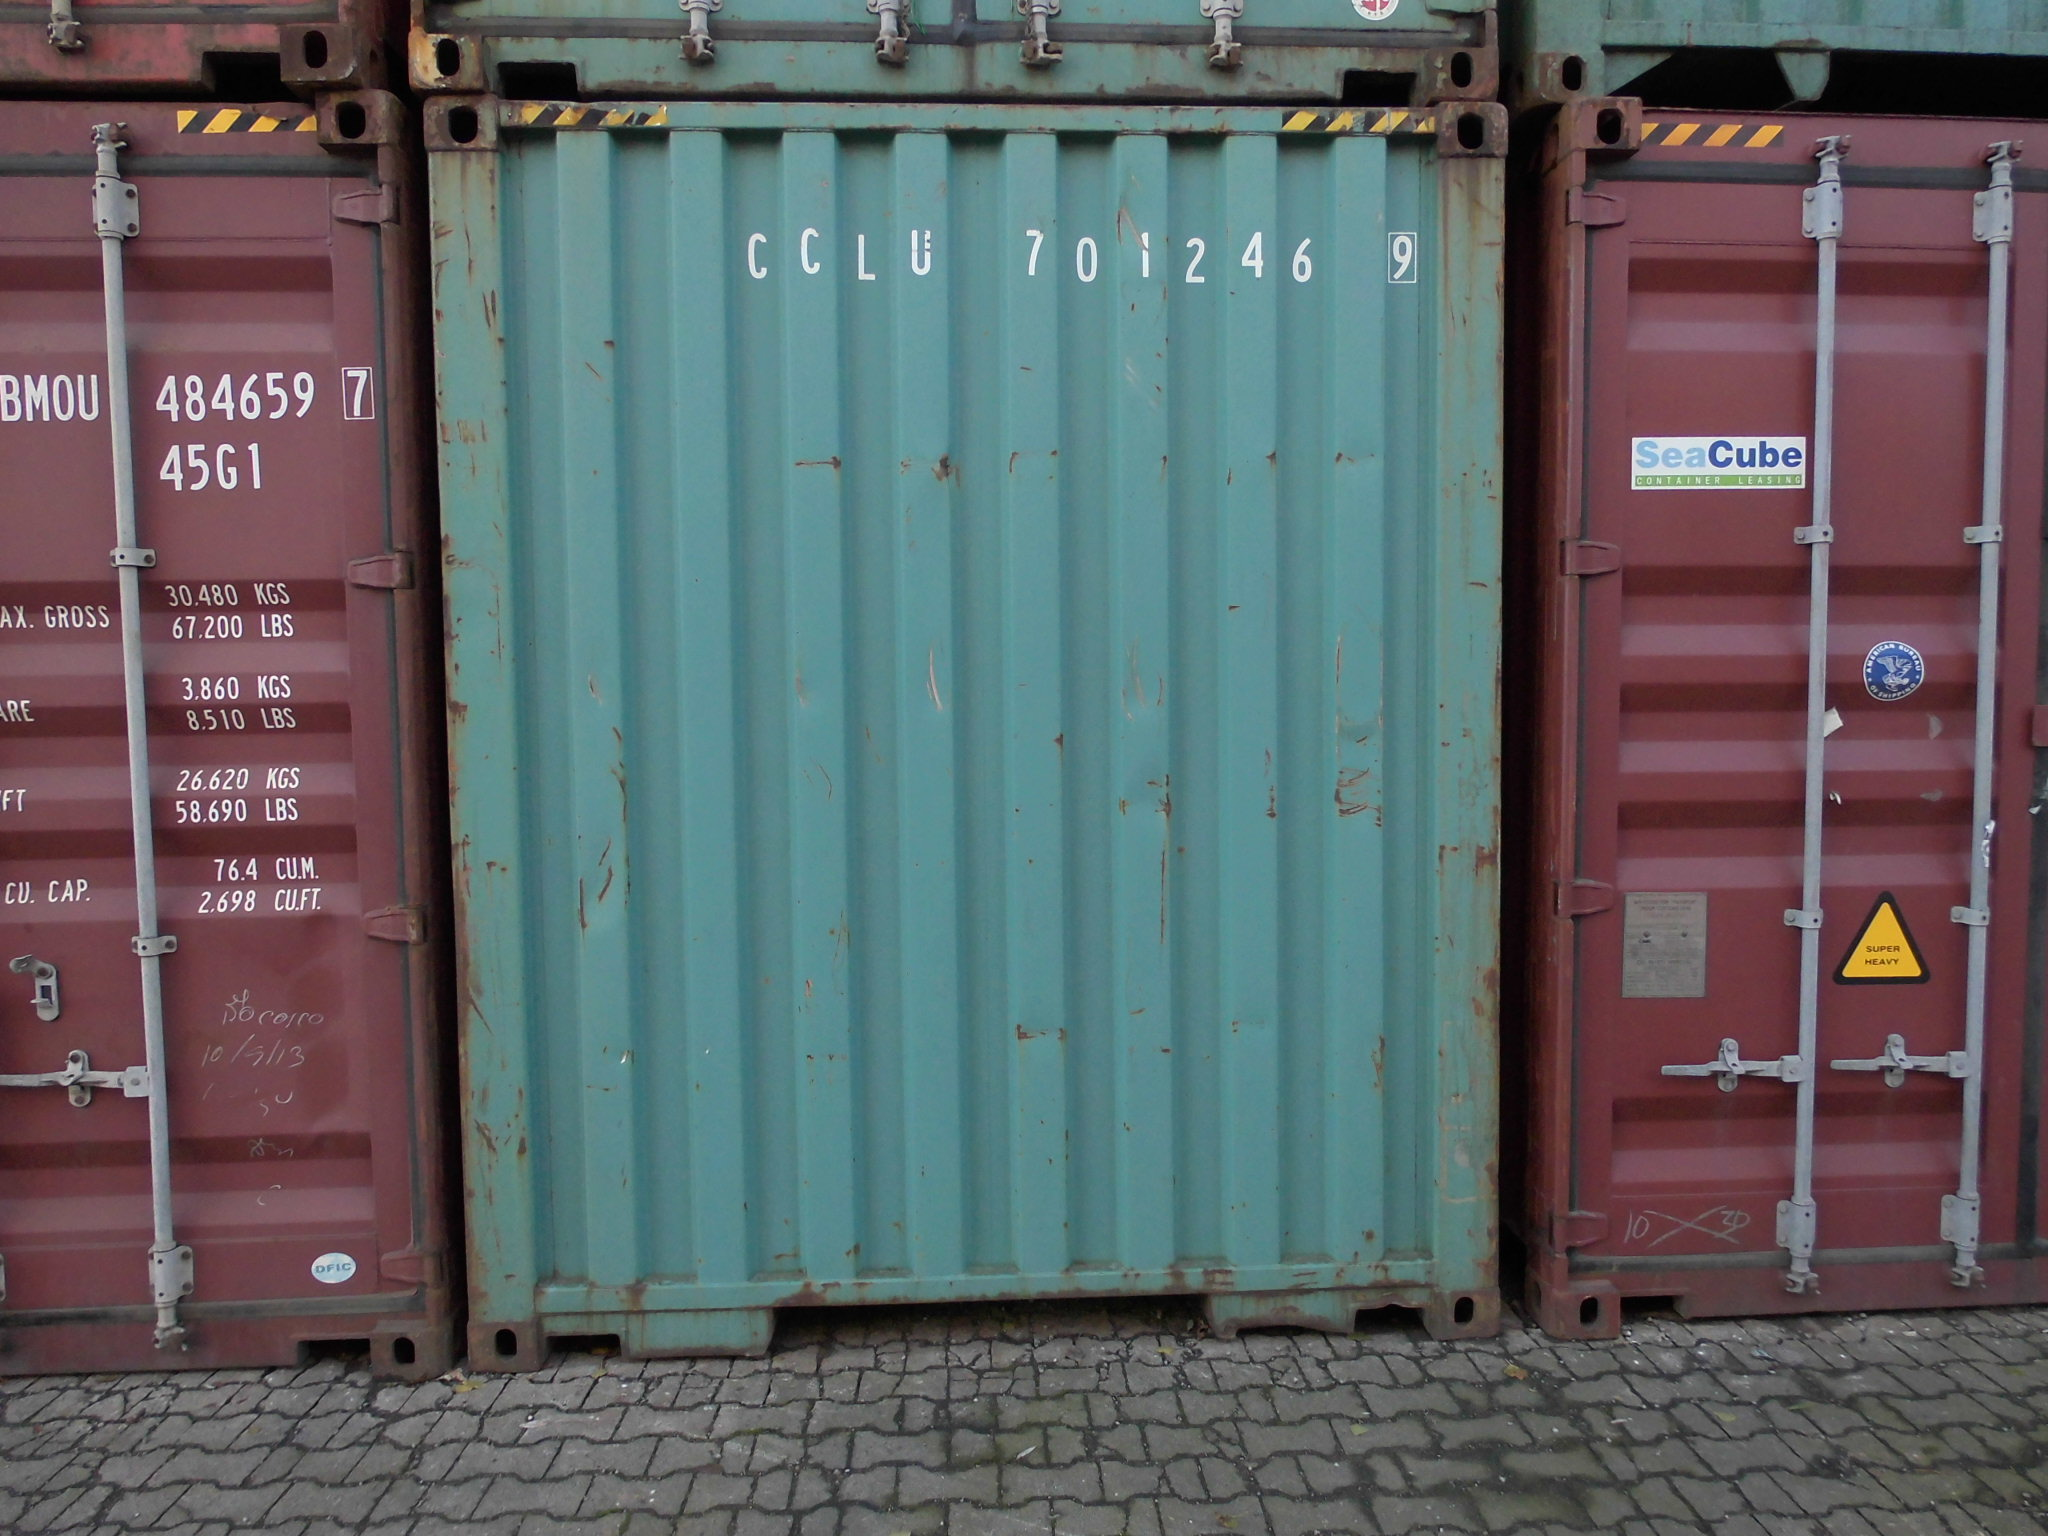container_no_door: (419, 82, 1527, 1360)
